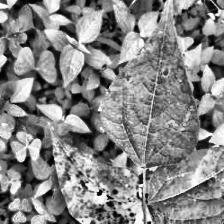ALS: (91, 27, 198, 168), (54, 136, 140, 224), (147, 134, 224, 223)
